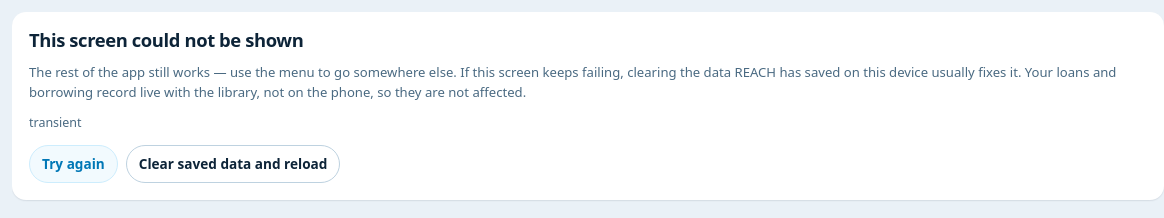
Test: ErrorBoundary › lets the user retry in place
The width and height of the screenshot is (1164, 218).
Click the button "Try again": x=73, y=164 [29,145,118,183]
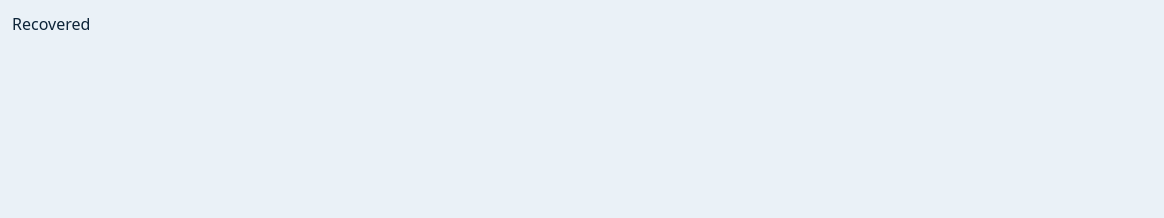
Now the text "Recovered" is shown, box [12,13,90,35]
